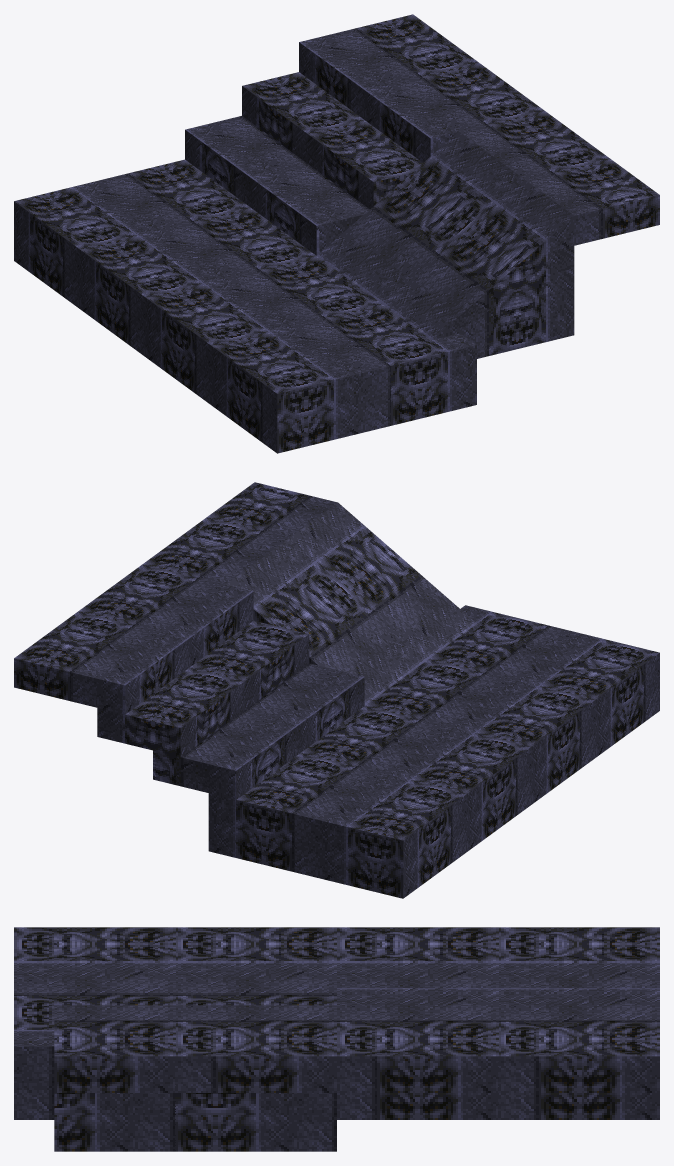
File: accessible.obj
The picture shows the model from 3 angles, top to bottom: view 1: azimuth 30°, elevation 25°; view 2: azimuth 150°, elevation 25°; view 3: azimuth 270°, elevation 25°; orthographic projection. The views are drawn at different scales.
Parts seen in each view (by area): view 1: entity1_brush4, entity1_brush2, entity1_brush5, entity1_brush1, entity1_brush6, entity1_brush3, entity1_brush0; view 2: entity1_brush5, entity1_brush4, entity1_brush2, entity1_brush1, entity1_brush0, entity1_brush3, entity1_brush6; view 3: entity1_brush1, entity1_brush4, entity1_brush5, entity1_brush6, entity1_brush2.
Boxes of the visible parts, x1,y1,x2,y2 form: entity1_brush4: (145, 256, 476, 453); entity1_brush2: (317, 131, 574, 358); entity1_brush5: (14, 159, 316, 356); entity1_brush1: (299, 14, 544, 162); entity1_brush6: (459, 110, 659, 245); entity1_brush3: (185, 116, 369, 255); entity1_brush0: (242, 72, 422, 208); entity1_brush5: (208, 706, 531, 898); entity1_brush4: (365, 605, 659, 804); entity1_brush2: (226, 502, 476, 705); entity1_brush1: (14, 564, 253, 714); entity1_brush0: (97, 620, 309, 757); entity1_brush3: (153, 663, 364, 799); entity1_brush6: (142, 482, 337, 584); entity1_brush1: (337, 988, 659, 1092); entity1_brush4: (14, 927, 336, 1119); entity1_brush5: (337, 927, 659, 1119); entity1_brush6: (54, 1005, 336, 1092); entity1_brush2: (54, 1093, 336, 1151).
Size of the model in its own units: 224 by 80 by 256.
1 material, 1 textured.
